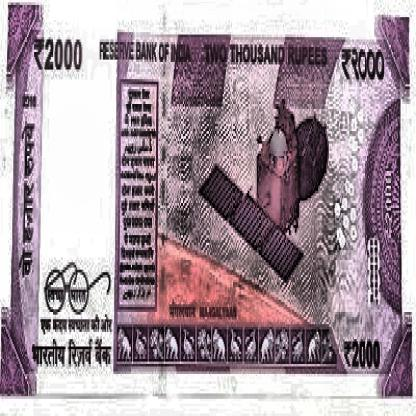Rs2000: (29, 22, 88, 89), (342, 332, 386, 378)
